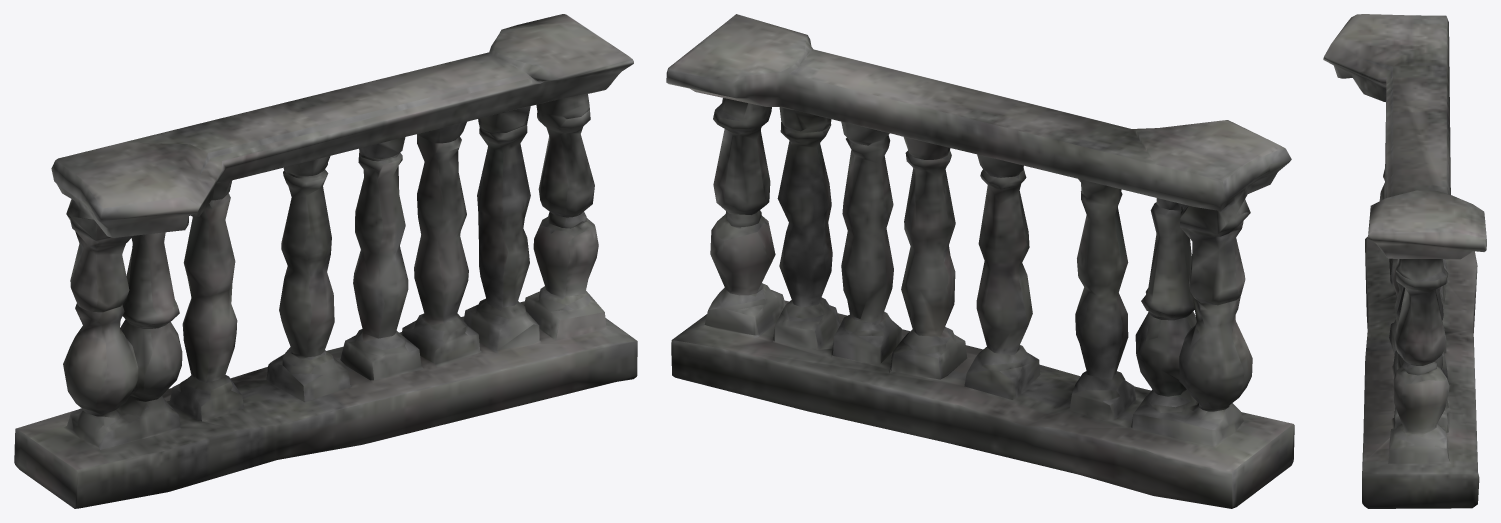
The model's file is plain-granite-balustrade-v002.glb.
3 views of the same model, side by side, from view 1: azimuth 30°, elevation 25°; view 2: azimuth 150°, elevation 25°; view 3: azimuth 270°, elevation 25° (orthographic). The views are drawn at different scales.
Visible parts, largest first — view 1: plain-granite-balustrade; view 2: plain-granite-balustrade; view 3: plain-granite-balustrade.
Boxes of the visible parts, x1,y1,x2,y2 form: plain-granite-balustrade: (14, 14, 637, 508); plain-granite-balustrade: (666, 14, 1294, 508); plain-granite-balustrade: (1323, 14, 1486, 508).
Bounding box in the file's own units: 1.8 × 1 × 0.5311.
1 material, 1 textured.
